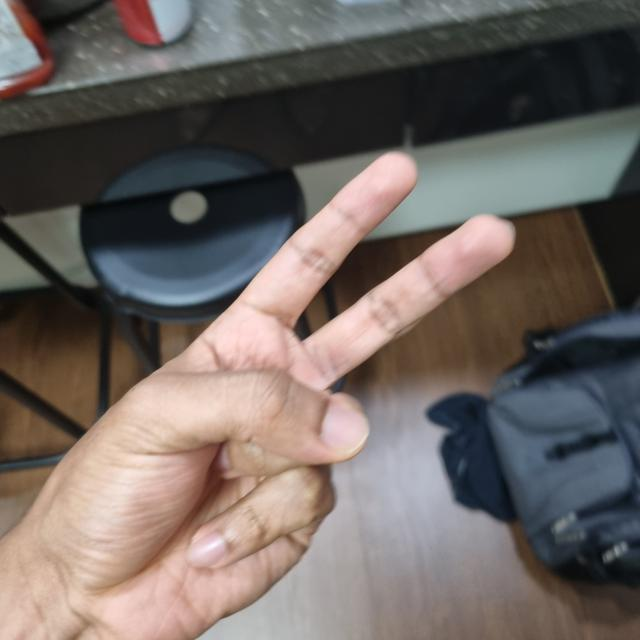Scissors: (16, 156, 514, 640)
